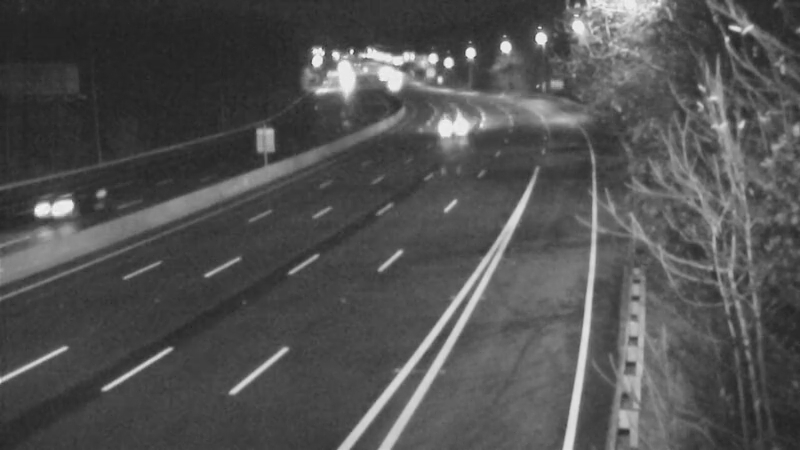vehicle: (12, 170, 92, 250), (371, 56, 421, 106), (429, 97, 479, 147)
